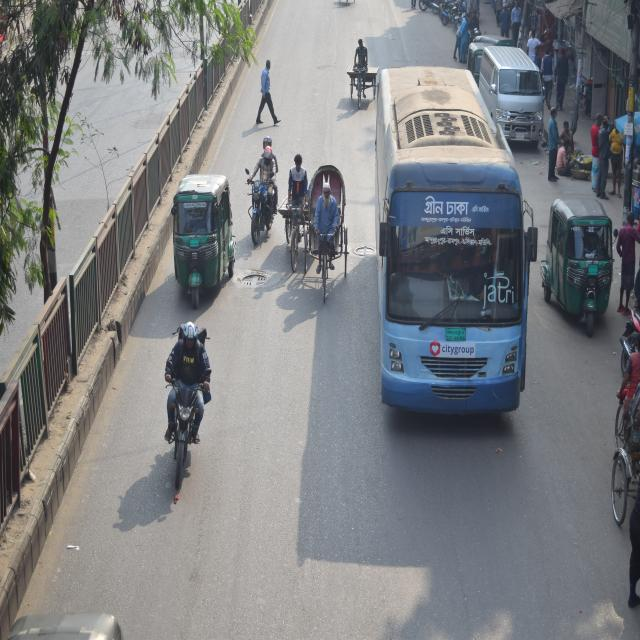bus: (362, 67, 549, 436)
microbus: (477, 40, 555, 143)
motorbike: (155, 321, 215, 491), (249, 140, 283, 246)
